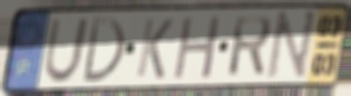D: (80, 14, 128, 85)
H: (171, 13, 224, 82)
K: (134, 16, 176, 81)
N: (263, 8, 319, 83)
R: (225, 14, 274, 79)
U: (41, 16, 92, 86)
